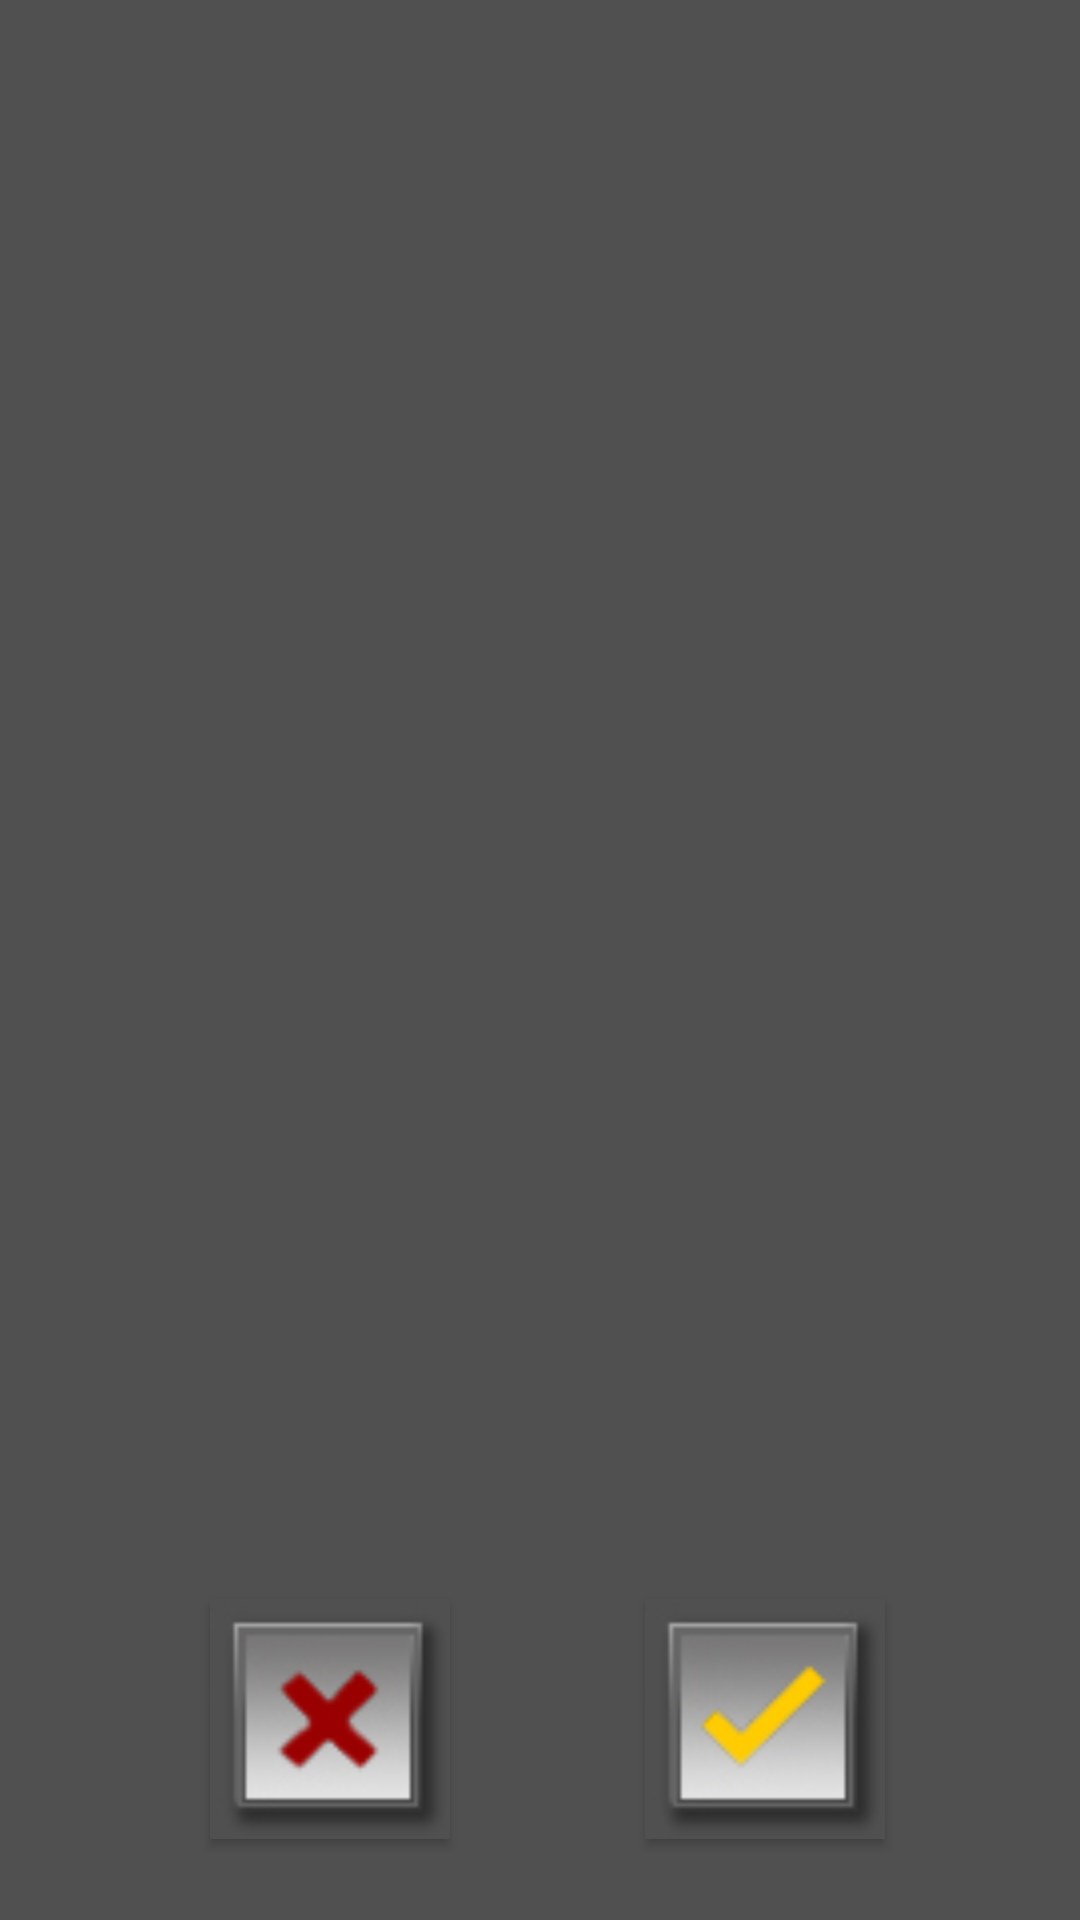

Locate icon controls on the screen. Image size 1080w x 1920h, boxes as (x1, y1, x2, y2).
checklup: (668, 1622, 867, 1821)
exitup: (233, 1622, 432, 1821)
